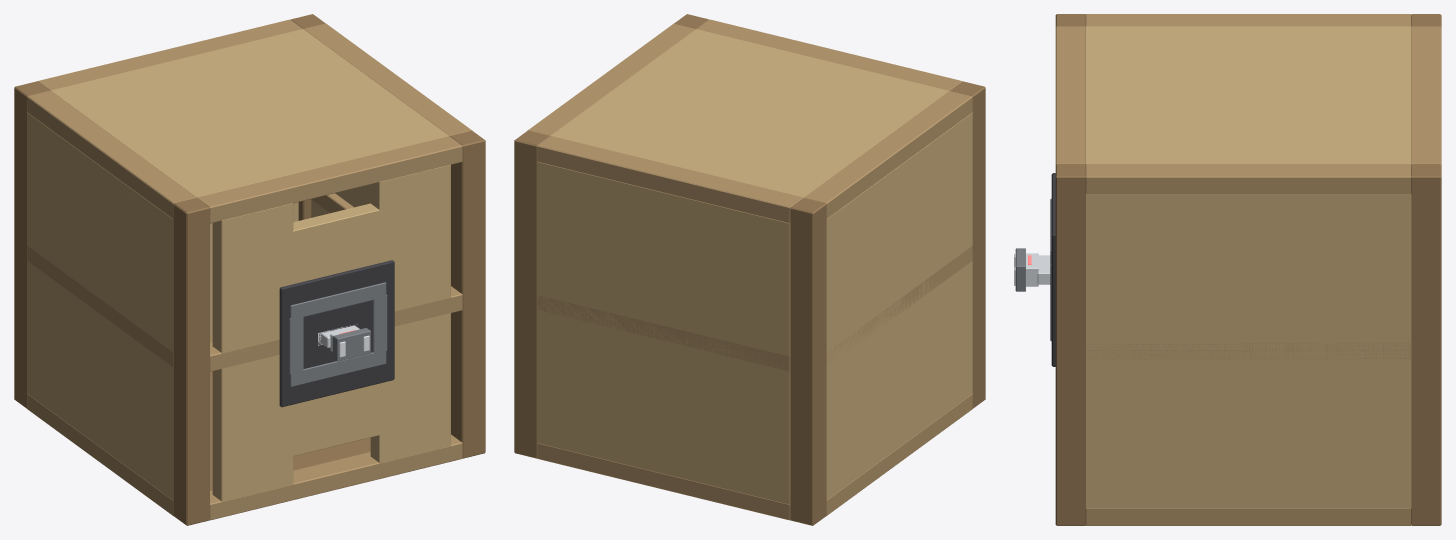
Rendered from FTF_Trap_MimicCrate_MechTongue_3m_v5.glb.
The picture shows the model from 3 angles, left to right: view 1: azimuth 30°, elevation 25°; view 2: azimuth 150°, elevation 25°; view 3: azimuth 270°, elevation 25°; orthographic projection. The views are drawn at different scales.
Visible parts, largest first — view 1: FTF_Trap_MimicCrate_MechTongue_3m_v5_Static, TongueMesh; view 2: FTF_Trap_MimicCrate_MechTongue_3m_v5_Static; view 3: FTF_Trap_MimicCrate_MechTongue_3m_v5_Static, TongueMesh.
Part boxes in pixels (x1=…): FTF_Trap_MimicCrate_MechTongue_3m_v5_Static: x1=14, y1=14, x2=485, y2=525; TongueMesh: x1=318, y1=324, x2=370, y2=361; FTF_Trap_MimicCrate_MechTongue_3m_v5_Static: x1=514, y1=14, x2=985, y2=525; FTF_Trap_MimicCrate_MechTongue_3m_v5_Static: x1=1050, y1=14, x2=1441, y2=525; TongueMesh: x1=1014, y1=248, x2=1050, y2=291.
Size of the model in its own units: 3 by 3 by 3.32.
